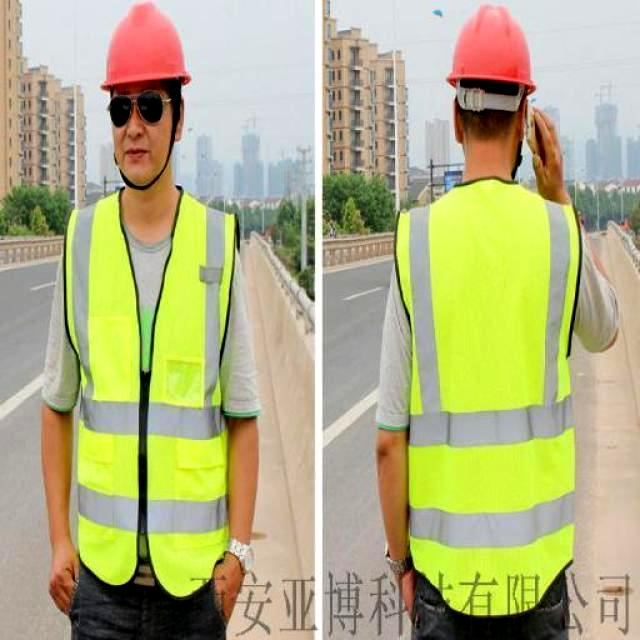hard_hat: (101, 0, 191, 98), (446, 5, 535, 94)
person: (376, 6, 618, 639), (41, 2, 259, 639)
